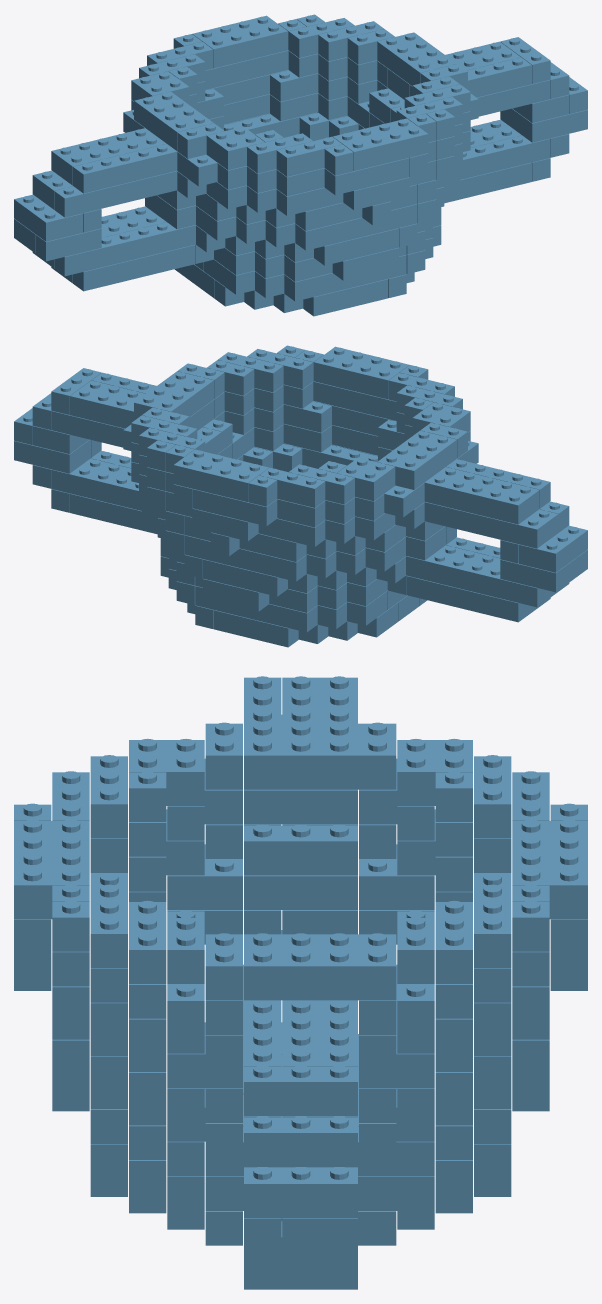
Rendered from collab_pot-L5V1_raw.glb.
3 renders of one model, top to bottom at view 1: azimuth 30°, elevation 25°; view 2: azimuth 150°, elevation 25°; view 3: azimuth 270°, elevation 25°, orthographic. The views are drawn at different scales.
Size of the model in its own units: 28.98 by 9.13 by 14.98.
